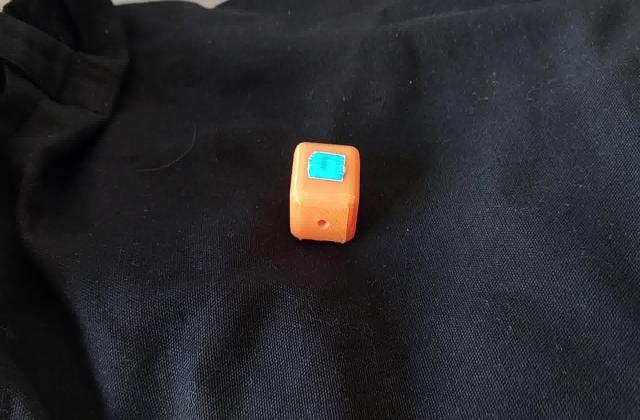blue: (314, 154, 343, 178)
sticker: (286, 137, 361, 246)
